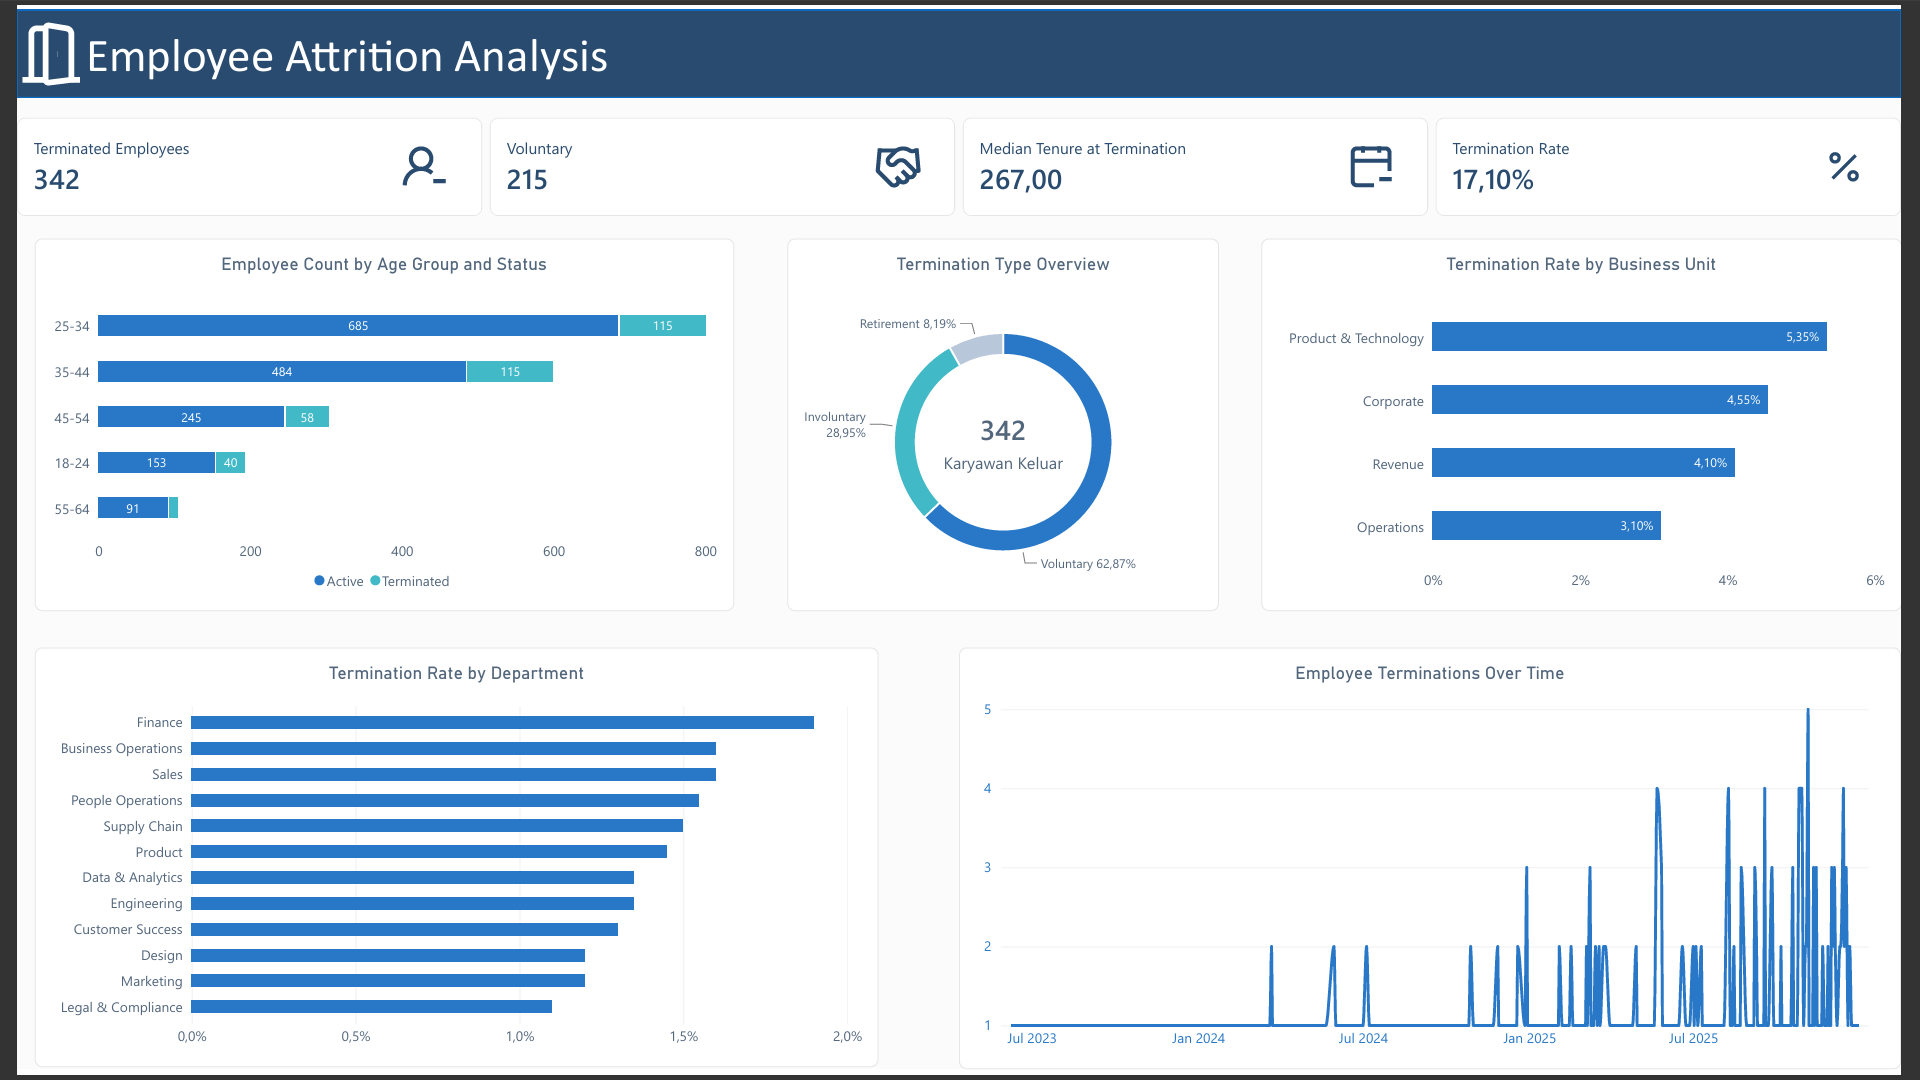

The page's visual inventory and layout, read from the dashboard file:
{"tool":"powerbi","page":{"name":"Employee Attrition Analysis","canvas":[1920,1080],"ordinal":1},"visuals":[{"type":"shape","box":[0,0,1920,89.7],"z":0},{"type":"donutChart","title":"Termination Type Overview","fields":{"Category":["employment_records.termination_type"],"Y":["_DAX.Karyawan Keluar"]},"box":[785,232.5,440,380],"z":1000},{"type":"barChart","title":"Termination Rate by Department","fields":{"Category":["departments.department_name"],"Y":["_DAX.Persentase Karyawan Keluar Departemen"]},"box":[17.5,650,860,427.5],"z":2000},{"type":"barChart","title":"Employee Count by Age Group and Status","fields":{"Category":["employees.age_band"],"Series":["employment_records.employment_status"],"Y":["CountNonNull(employment_records.employee_id)"]},"box":[17.5,232.5,712.5,380],"z":3000},{"type":"cardVisual","fields":{"Data":["_DAX.Karyawan Keluar","_DAX.Resign","_DAX.Median Masa Kerja Keluar","_DAX.Persentase Keluar"]},"box":[0,110,1920,100],"z":4000},{"type":"barChart","title":"Termination Rate by Business Unit","fields":{"Category":["departments.business_unit"],"Y":["_DAX.Persentase Karyawan Keluar Departemen"]},"box":[1267.5,232.5,652.5,380],"z":5000},{"type":"lineChart","title":"Employee Terminations Over Time","fields":{"Category":["employment_records.ended_at"],"Y":["_DAX.Karyawan Keluar"]},"box":[960,650,960,430],"z":6000},{"type":"textbox","box":[70,16,618,74],"z":7000},{"type":"image","box":[0,0,70,90],"z":8000}]}

Visuals, with their boxes in screenshot pixels (x1, y1, x2, y2), scaled from the page's 1920x1080 canvas onto the 1920x1080 screenshot:
shape: locate(0, 0, 1919, 90)
"Termination Type Overview" donutChart: locate(785, 232, 1225, 612)
"Termination Rate by Department" barChart: locate(18, 650, 878, 1078)
"Employee Count by Age Group and Status" barChart: locate(18, 232, 730, 612)
cardVisual - _DAX.Karyawan Keluar x _DAX.Resign: locate(0, 110, 1919, 210)
"Termination Rate by Business Unit" barChart: locate(1268, 232, 1919, 612)
"Employee Terminations Over Time" lineChart: locate(960, 650, 1919, 1079)
textbox: locate(70, 16, 688, 90)
image: locate(0, 0, 70, 90)
